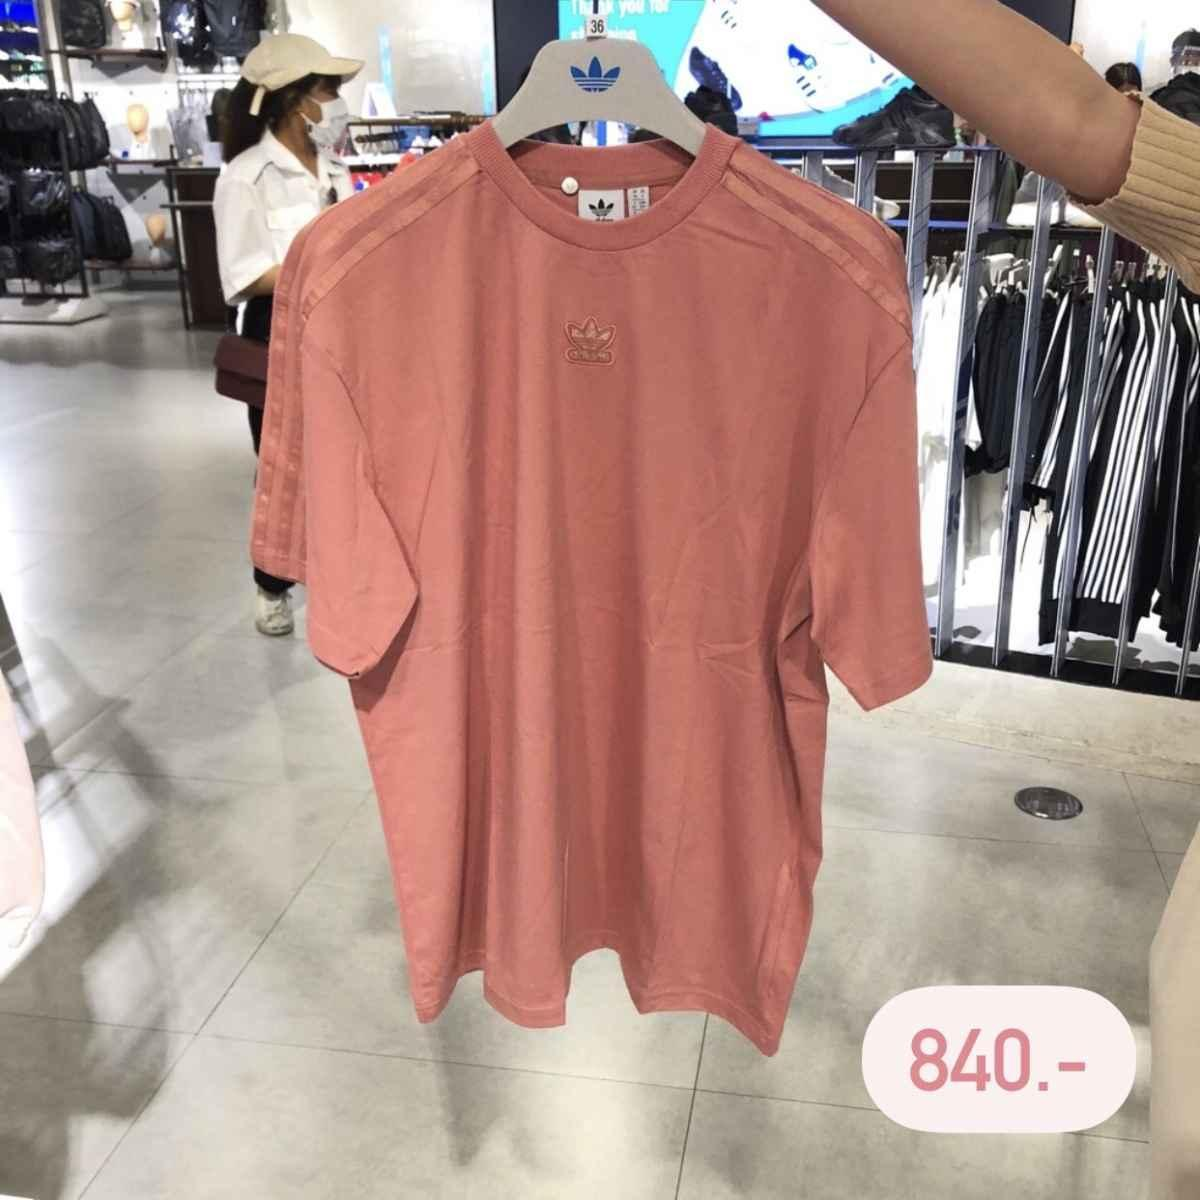Tshirt: (251, 109, 948, 1064)
